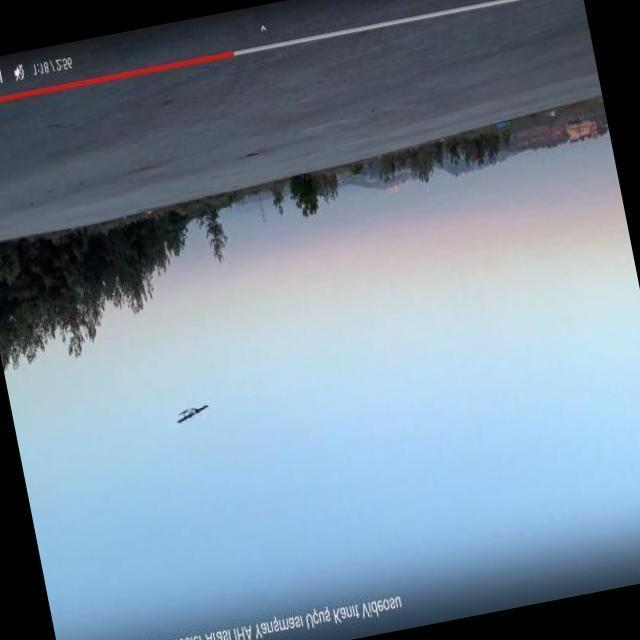iha: (166, 389, 228, 431)
